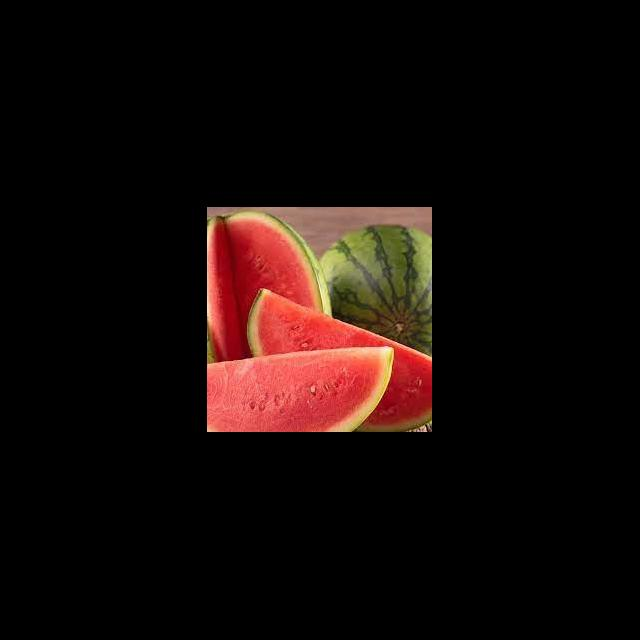watermelon: (247, 288, 432, 432), (208, 210, 334, 364), (208, 348, 396, 432), (318, 224, 432, 356)
